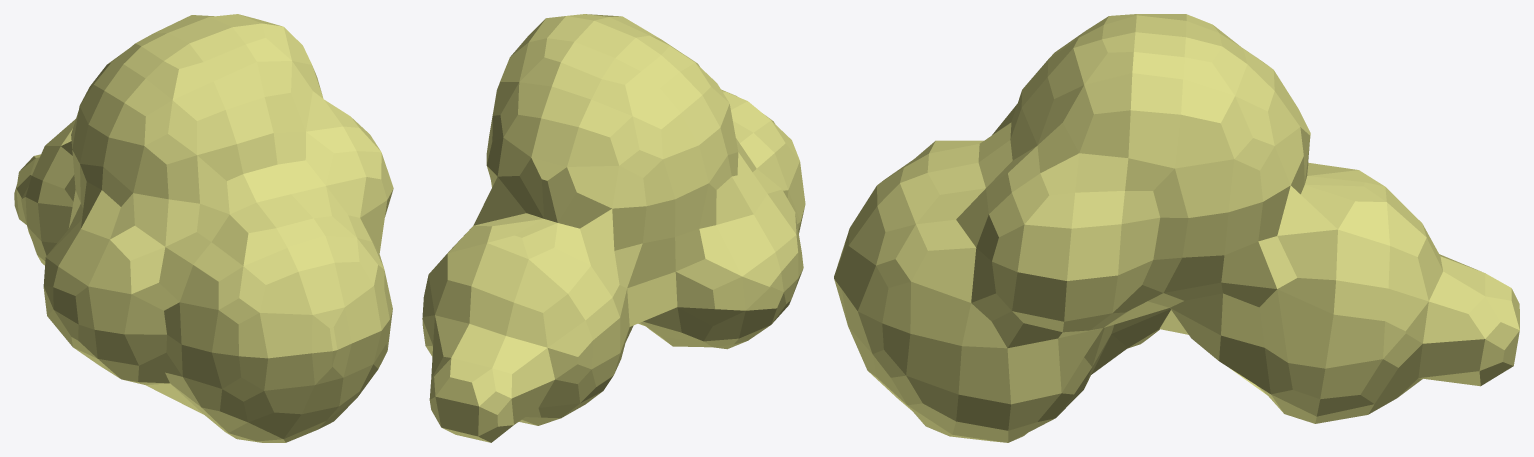
The model's file is st1_cloud2.fbx.
The picture shows the model from 3 angles, left to right: view 1: azimuth 30°, elevation 25°; view 2: azimuth 150°, elevation 25°; view 3: azimuth 270°, elevation 25°; orthographic projection. The views are drawn at different scales.
Parts seen in each view (by area): view 1: Icosphere_011; view 2: Icosphere_011; view 3: Icosphere_011.
Boxes of the visible parts, x1,y1,x2,y2 form: Icosphere_011: (14,14,393,442); Icosphere_011: (422,14,805,442); Icosphere_011: (834,14,1519,442).
Size of the model in its own units: 1050 by 1134 by 1739.
